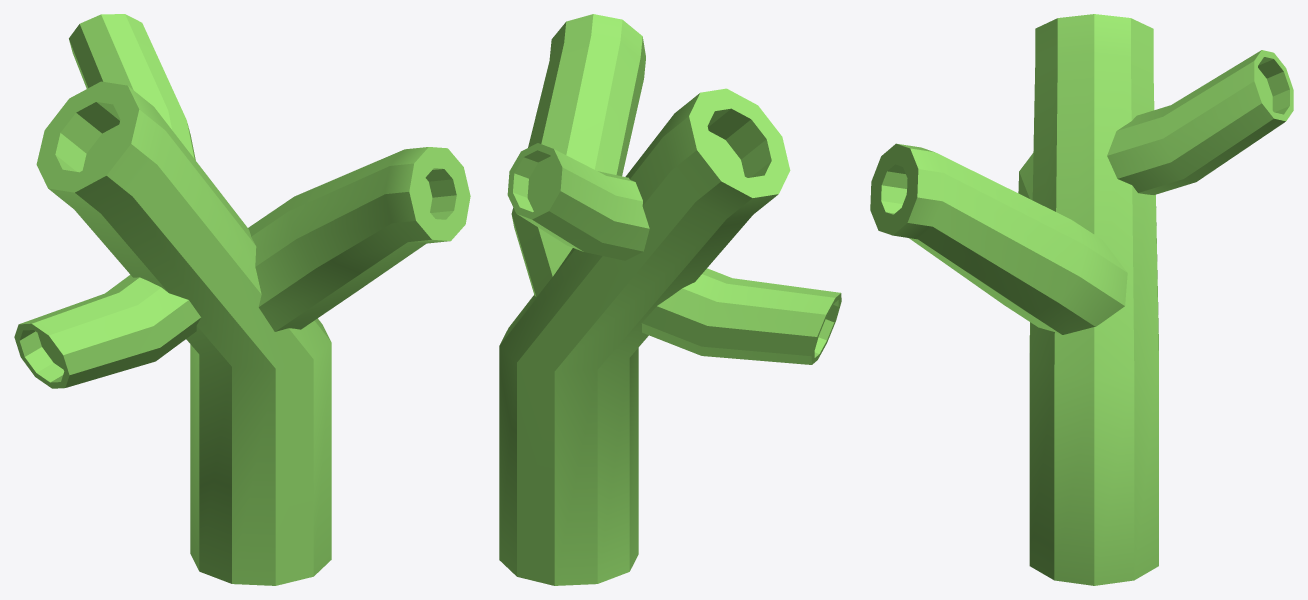
The model's file is Coral light green.fbx.
3 renders of one model, left to right at view 1: azimuth 30°, elevation 25°; view 2: azimuth 150°, elevation 25°; view 3: azimuth 270°, elevation 25°, orthographic. The views are drawn at different scales.
Visible parts, largest first — view 1: Coral_light_green; view 2: Coral_light_green; view 3: Coral_light_green.
Boxes of the visible parts, bbox=[...] form: Coral_light_green: bbox=[14, 14, 470, 585]; Coral_light_green: bbox=[499, 14, 841, 585]; Coral_light_green: bbox=[870, 14, 1293, 585].
Bounding box in the file's own units: 33.86 × 44.8 × 35.72.
